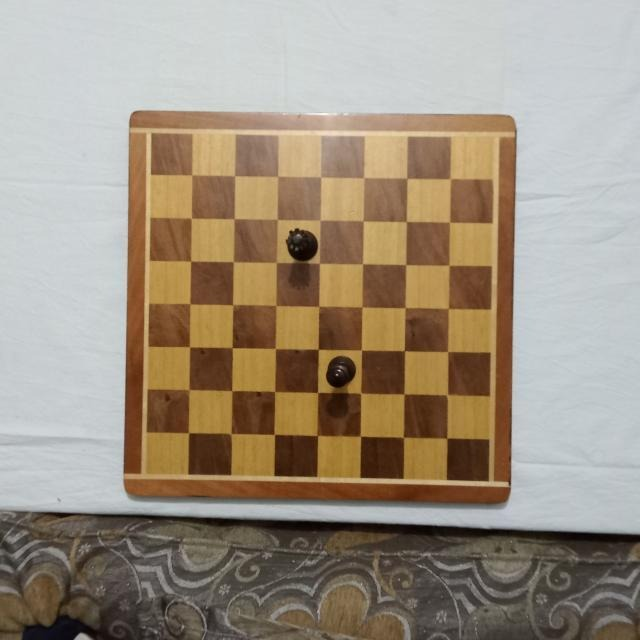black-king: (324, 355, 357, 388)
black-queen: (286, 226, 318, 261)
